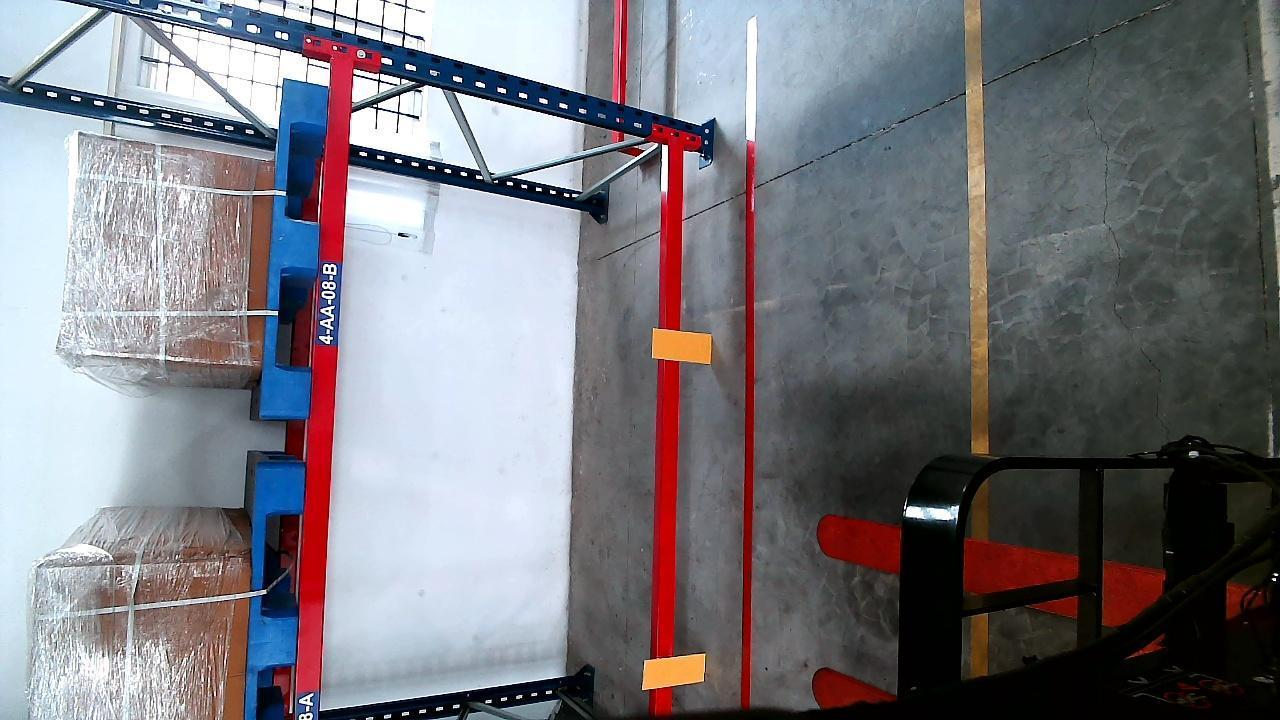h_rack: (295, 60, 355, 720), (652, 163, 686, 717)
orange_strip: (643, 652, 708, 689), (654, 328, 714, 361)
red_line: (738, 135, 760, 699)
small_pallet: (261, 80, 321, 421), (247, 468, 304, 718)
yellow_line: (966, 0, 993, 449)
